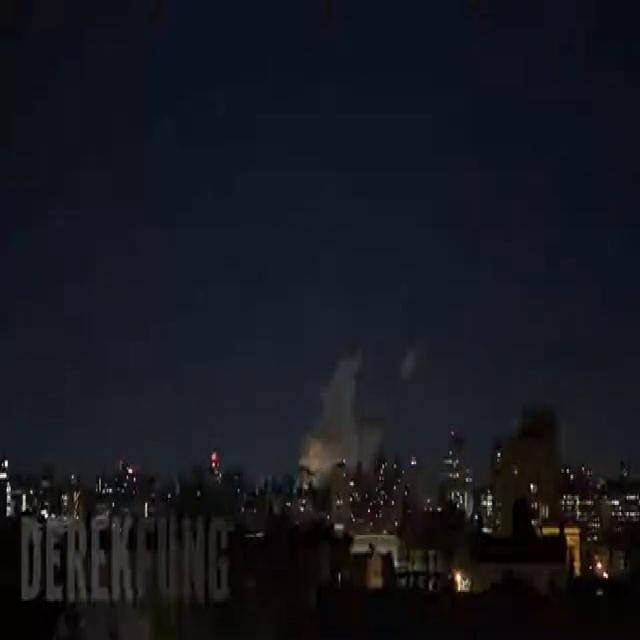smoke: (300, 354, 379, 476), (400, 350, 413, 379)
